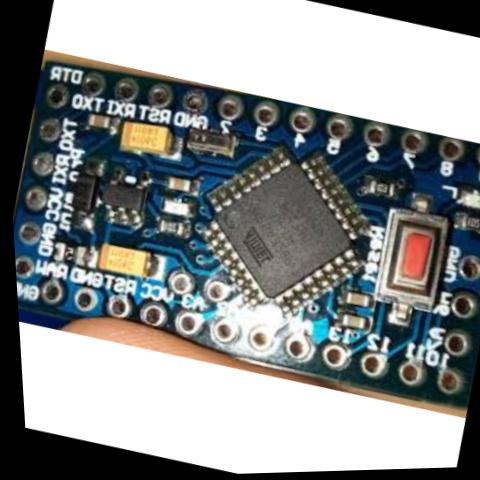Arduino-Pro-Mini: (2, 38, 480, 430)
